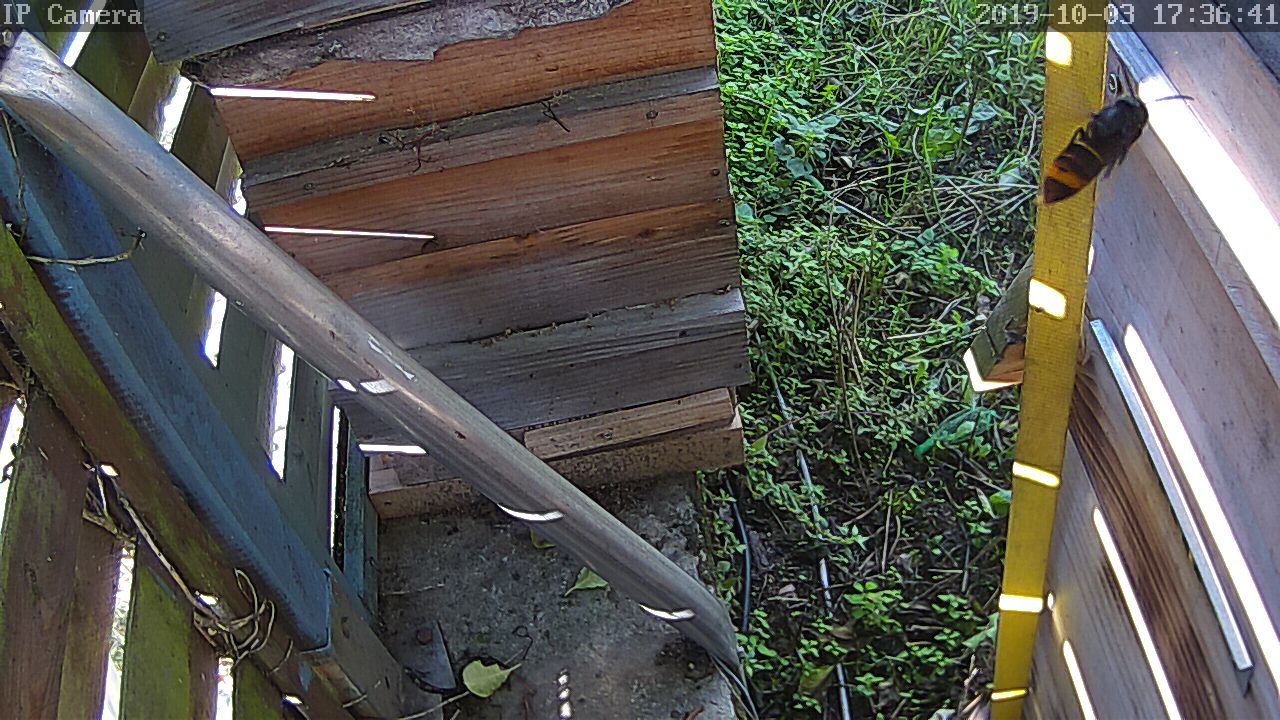hornet: (1031, 74, 1166, 210)
